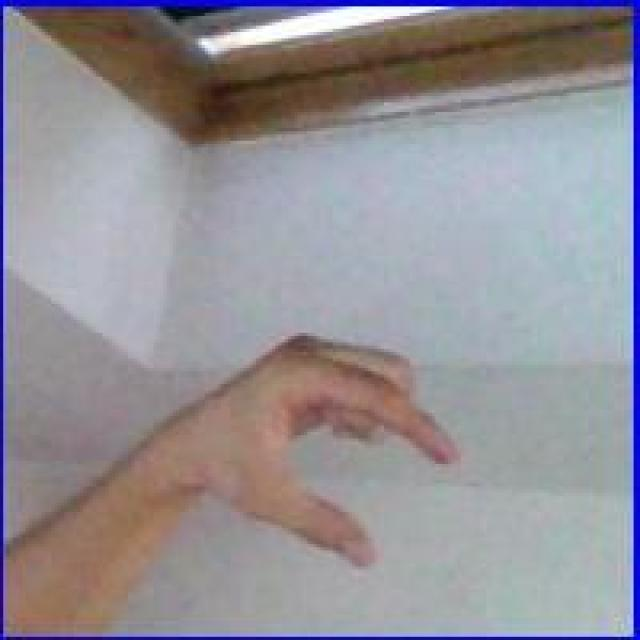Q: (184, 330, 466, 572)
